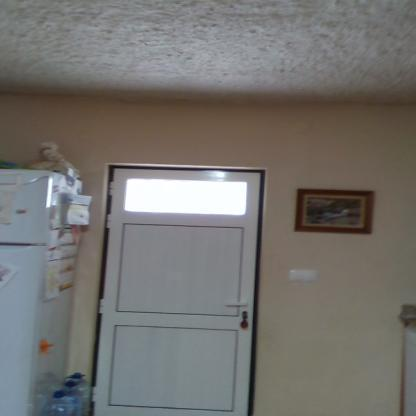door: (111, 169, 255, 415)
hinged: (90, 386, 100, 404), (107, 180, 116, 196), (98, 296, 106, 314), (106, 212, 113, 229)
lever: (221, 300, 250, 310)
